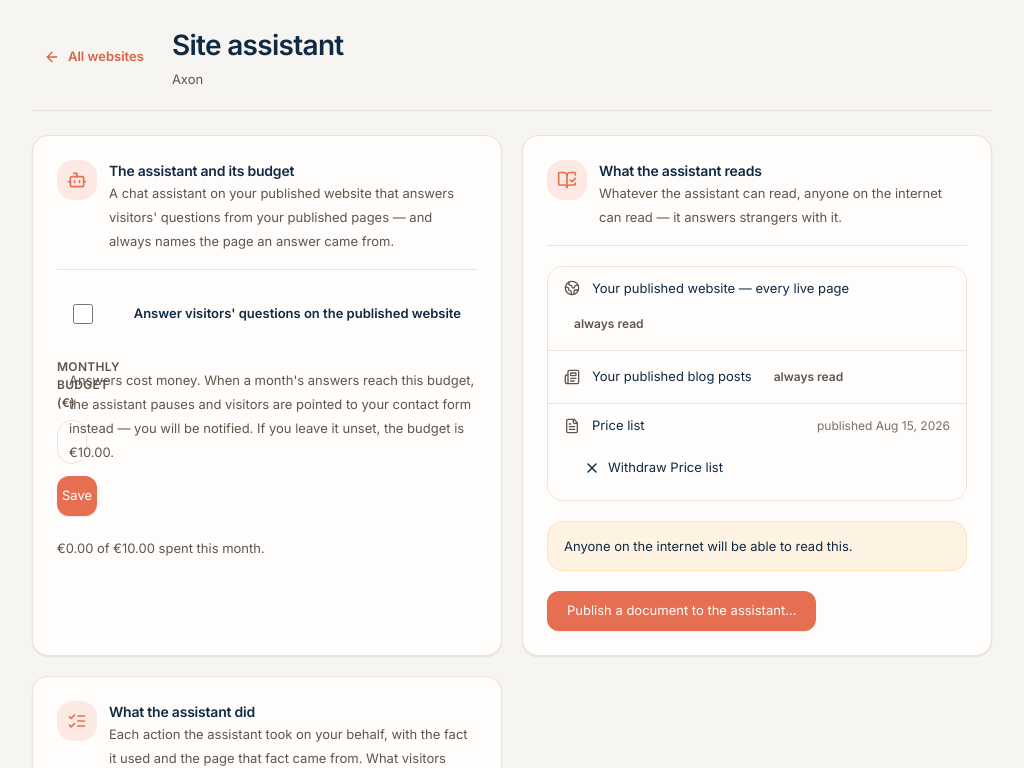
Scenario: the assistant screen › the internet sentence stands above the publish button, on the panel and in the dialog
Check: the text "Anyone on the internet will be able to read this." is shown, box 547,520 -> 967,570
Check: the text "Price list" is shown, box 592,416 -> 644,436
Click the button "Publish a document to the assistant…". click: click(682, 610)
box: 547,590 -> 816,630
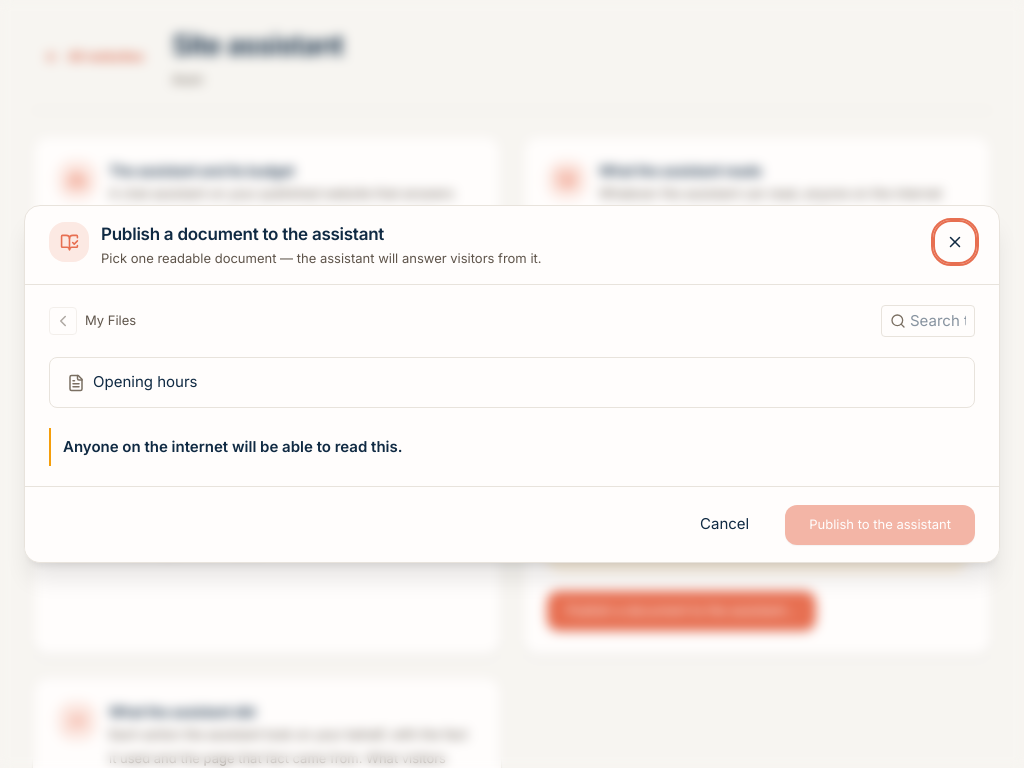
Check: the text "Anyone on the internet will be able to read this." is shown, box 49,428 -> 975,466
Check: the button "Publish to the assistant" is disabled, box 785,504 -> 975,544
Click the button "Opening hours". click: click(145, 382)
box: 54,362 -> 970,403
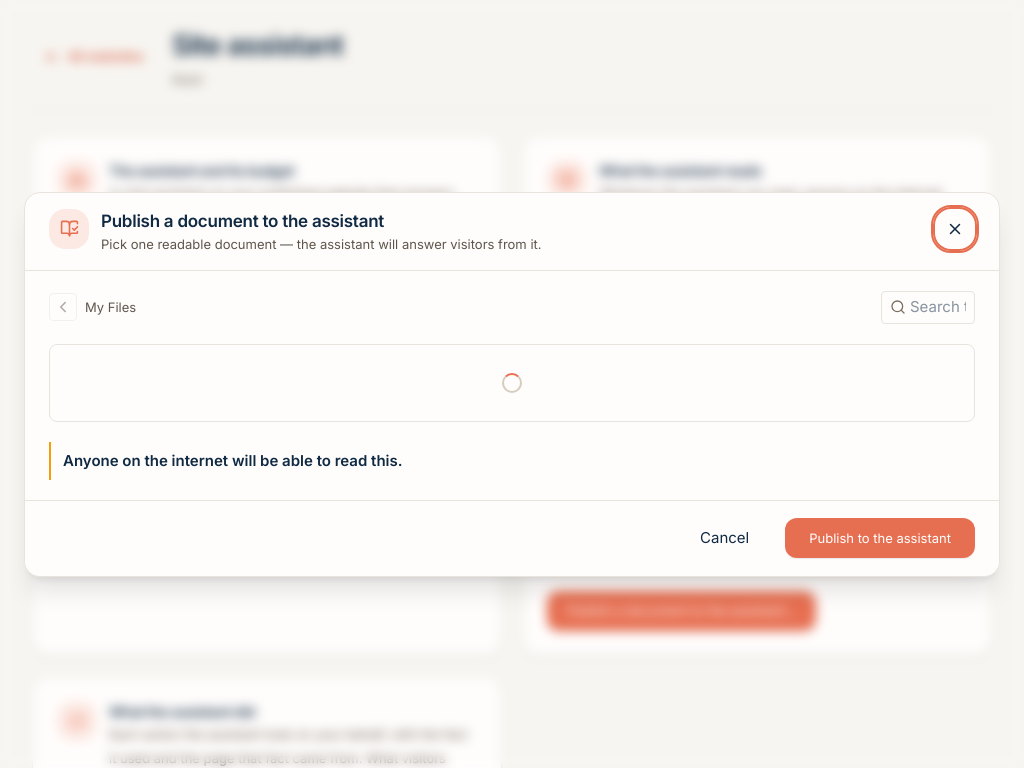
Check: the button "Publish to the assistant" is enabled
Click the button "Publish to the assistant". click: click(880, 538)
box: 785,518 -> 975,558
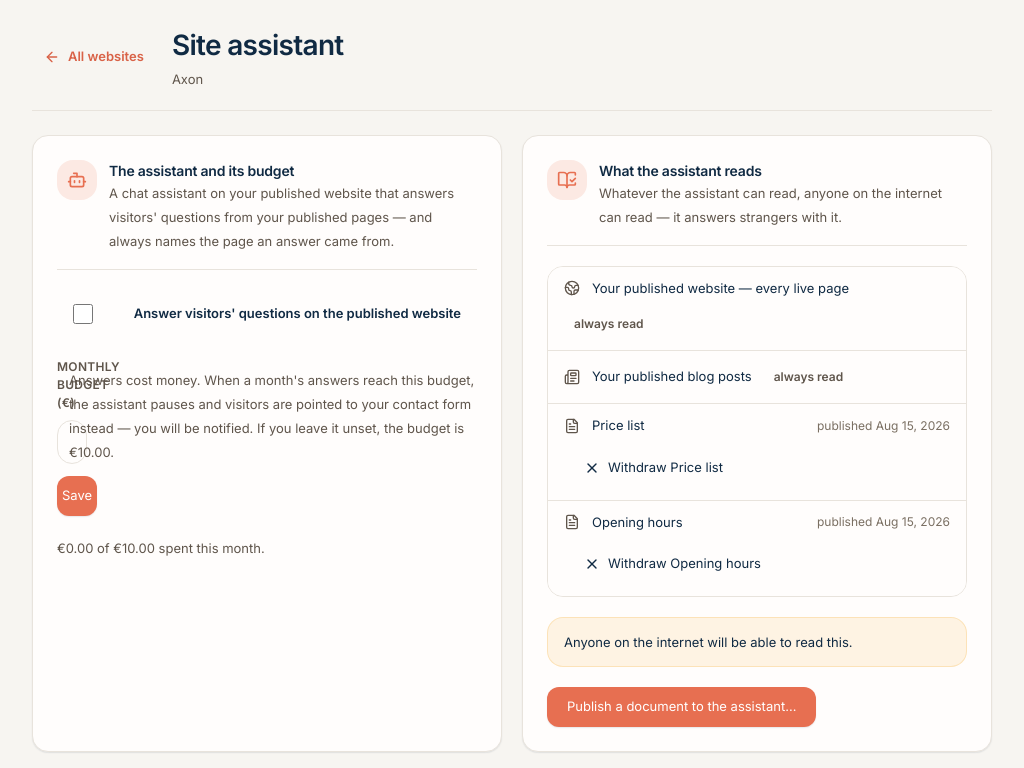
Check: the text "Opening hours" is shown, box 592,512 -> 682,532
Check: the dialog is gone
